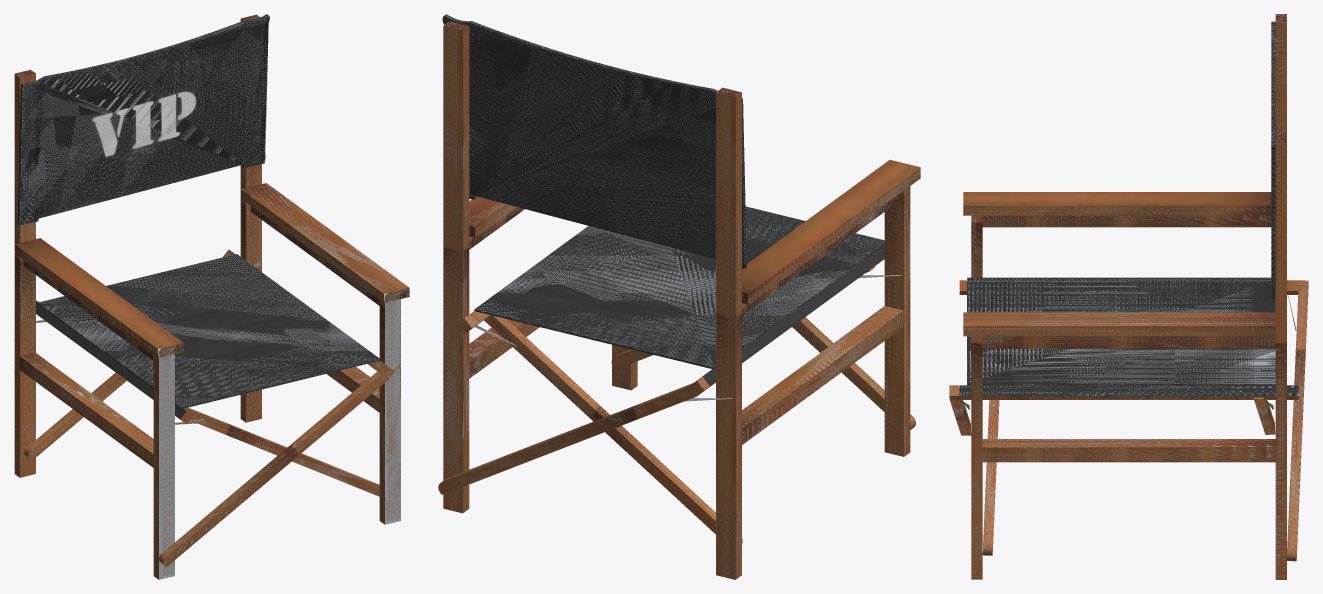
The model's file is VIPChair.dae.
3 renders of one model, left to right at view 1: azimuth 30°, elevation 25°; view 2: azimuth 150°, elevation 25°; view 3: azimuth 270°, elevation 25°, orthographic. The views are drawn at different scales.
Visible parts, largest first — view 1: group_19 (×2), Composant_4, group_6 (×2), group_9 (×2), group_10, group_4 (×2), group_5 (×2), group_15, group_11, group_7 (×2), group_16, group_13 (+2 smaller); view 2: group_19, Composant_4, group_6 (×2), group_7, group_9 (×2), group_4, group_11, group_17, group_18, group_13, group_15, group_12 (+2 smaller); view 3: Composant_4, group_7 (×2), group_10, group_12, group_6 (×2), group_14 (×2), group_9, group_8, group_18, group_5, group_16, group_19 (+3 smaller).
Part boxes in pixels (box(x1,y1,x2,y2)): group_19 (×2): box(17, 14, 269, 225); Composant_4: box(37, 254, 380, 408); group_6 (×2): box(14, 69, 153, 477); group_9 (×2): box(14, 238, 182, 357); group_10: box(240, 183, 408, 302); group_4 (×2): box(153, 354, 174, 579); group_5 (×2): box(379, 299, 400, 524); group_15: box(159, 363, 394, 566); group_11: box(20, 352, 153, 467); group_7 (×2): box(240, 14, 379, 422); group_16: box(184, 407, 379, 496); group_13: box(36, 301, 186, 419); group_19: box(442, 14, 746, 268); Composant_4: box(474, 206, 884, 369); group_6 (×2): box(716, 87, 898, 579); group_7: box(443, 21, 469, 513); group_9 (×2): box(742, 160, 920, 304); group_4: box(884, 186, 910, 456); group_11: box(742, 306, 903, 444); group_17: box(484, 315, 742, 543); group_18: box(438, 376, 709, 494); group_13: box(702, 246, 884, 385); group_15: box(792, 317, 915, 429); group_12: box(469, 319, 539, 378); Composant_4: box(967, 277, 1275, 385); group_7 (×2): box(982, 134, 1286, 579); group_10: box(963, 312, 1275, 336); group_12: box(982, 439, 1275, 462); group_6 (×2): box(982, 14, 1286, 227); group_14 (×2): box(959, 385, 1298, 399); group_9: box(963, 192, 1271, 205); group_8: box(963, 205, 1271, 215); group_18: box(1287, 280, 1308, 561); group_5: box(971, 336, 982, 579); group_16: box(982, 400, 999, 555); group_19: box(1271, 21, 1275, 300).
Bounding box in the file's own units: 23.45 × 26.41 × 35.72.
